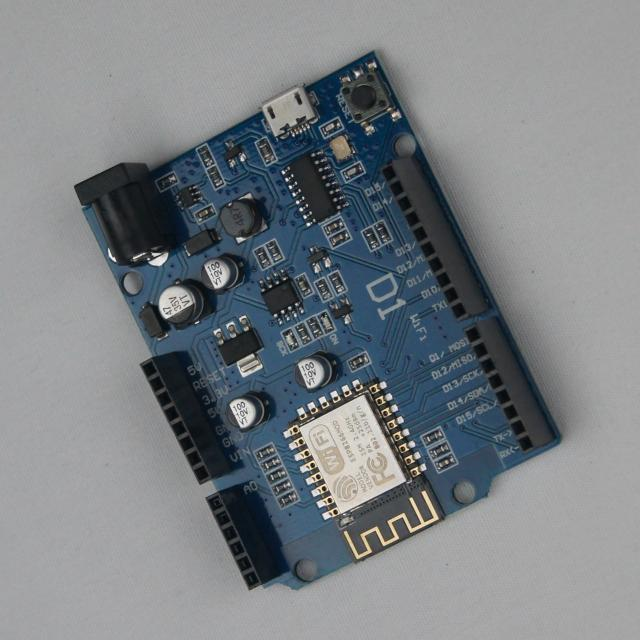Arduino Uno WiFi Shield: (76, 53, 560, 589)
